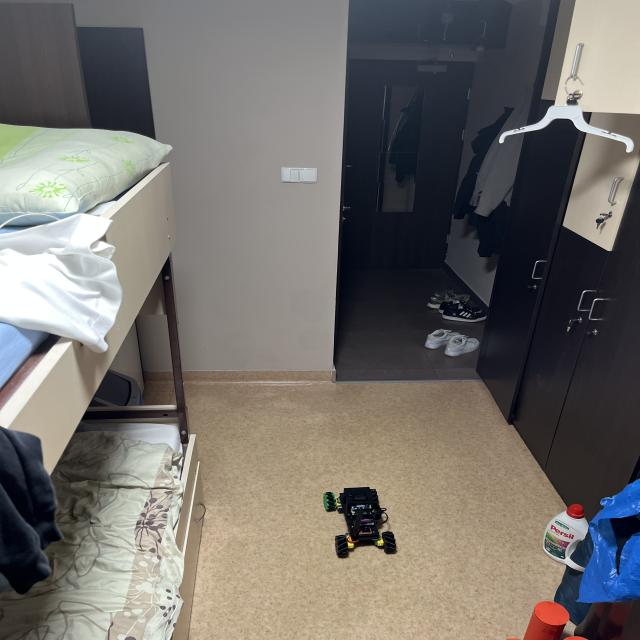robot: (323, 487, 396, 557)
